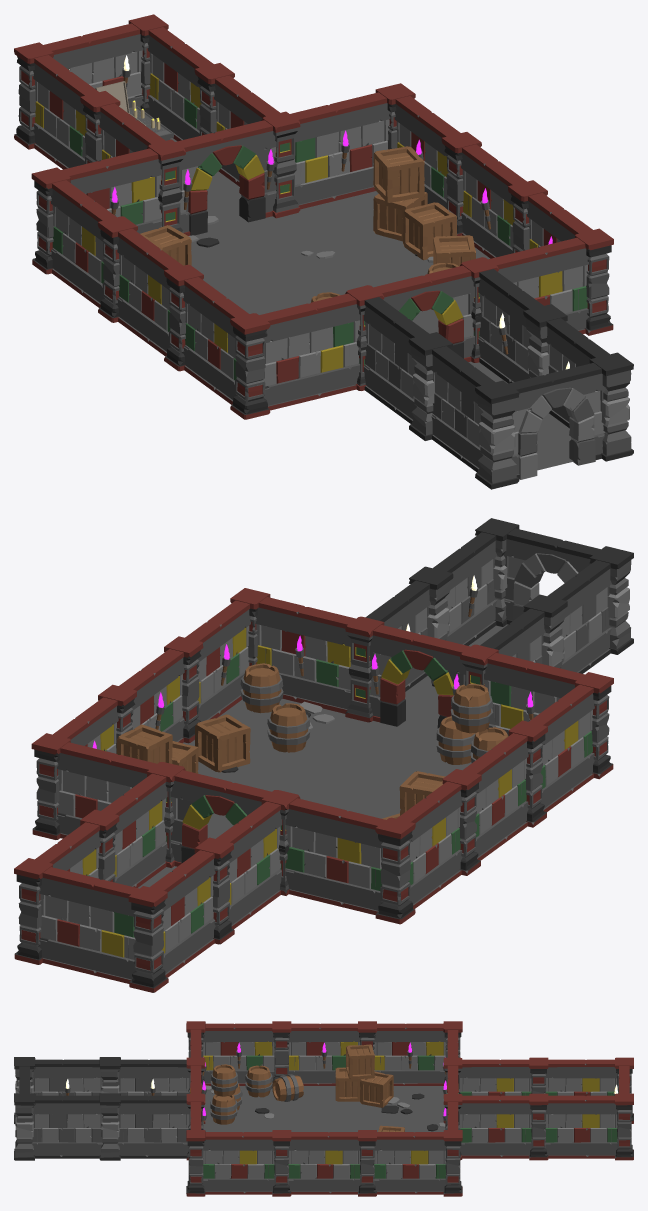
The model's file is modular pizza dungeon_test scene.glb.
3 views of the same model, one above another, from view 1: azimuth 30°, elevation 25°; view 2: azimuth 150°, elevation 25°; view 3: azimuth 270°, elevation 25° (orthographic). The views are drawn at different scales.
Parts seen in each view (by area): view 1: Wall, Wall.006, Doorway 02.001, Wall.014, Wall.010, Wall.005, Wall.012, Wall.008, Wall.009, Wall.018, Plane.003, Wall.007 (+21 smaller); view 2: Wall.007, Wall.019, Wall.005, Doorway 02.002, Wall.018, Wall.016, Wall.009, Wall.010, Wall.008, Wall.014, Wall.004, Wall.015 (+24 smaller); view 3: Wall.011, Wall.013, Wall.017, Wall.015, Wall.002, Wall.004, Wall.003, Wall.008, Wall.009, Wall.010, Wall.012, Wall.016 (+23 smaller).
Part boxes in pixels (<box>): Wall: <box>261,92,390,218</box>; Wall.006: <box>259,285,384,410</box>; Doorway 02.001: <box>147,120,276,235</box>; Wall.014: <box>431,346,519,489</box>; Wall.010: <box>183,277,270,419</box>; Wall.005: <box>488,228,613,335</box>; Wall.012: <box>363,297,452,440</box>; Wall.008: <box>51,180,137,322</box>; Wall.009: <box>117,228,203,371</box>; Wall.018: <box>14,42,98,169</box>; Plane.003: <box>188,215,346,286</box>; Wall.007: <box>31,148,163,274</box>; Wall.007: <box>284,798,415,924</box>; Wall.019: <box>39,867,138,983</box>; Wall.005: <box>230,588,355,713</box>; Doorway 02.002: <box>345,616,470,728</box>; Wall.018: <box>128,850,215,992</box>; Wall.016: <box>194,801,282,944</box>; Wall.009: <box>463,720,547,860</box>; Wall.010: <box>529,672,613,811</box>; Wall.008: <box>396,769,481,908</box>; Wall.014: <box>547,546,633,673</box>; Wall.004: <box>164,600,250,743</box>; Wall.015: <box>80,773,167,887</box>; Wall.011: <box>99,1093,189,1160</box>; Wall.013: <box>14,1093,102,1160</box>; Wall.017: <box>545,1093,633,1160</box>; Wall.015: <box>460,1093,548,1160</box>; Wall.002: <box>374,1130,462,1196</box>; Wall.004: <box>202,1130,291,1196</box>; Wall.003: <box>288,1130,376,1196</box>; Wall.008: <box>357,1021,446,1085</box>; Wall.009: <box>272,1021,360,1085</box>; Wall.010: <box>186,1021,274,1085</box>; Wall.012: <box>99,1057,189,1096</box>; Wall.016: <box>459,1057,548,1096</box>.
Size of the model in its own units: 12.9 by 3.17 by 28.94.
